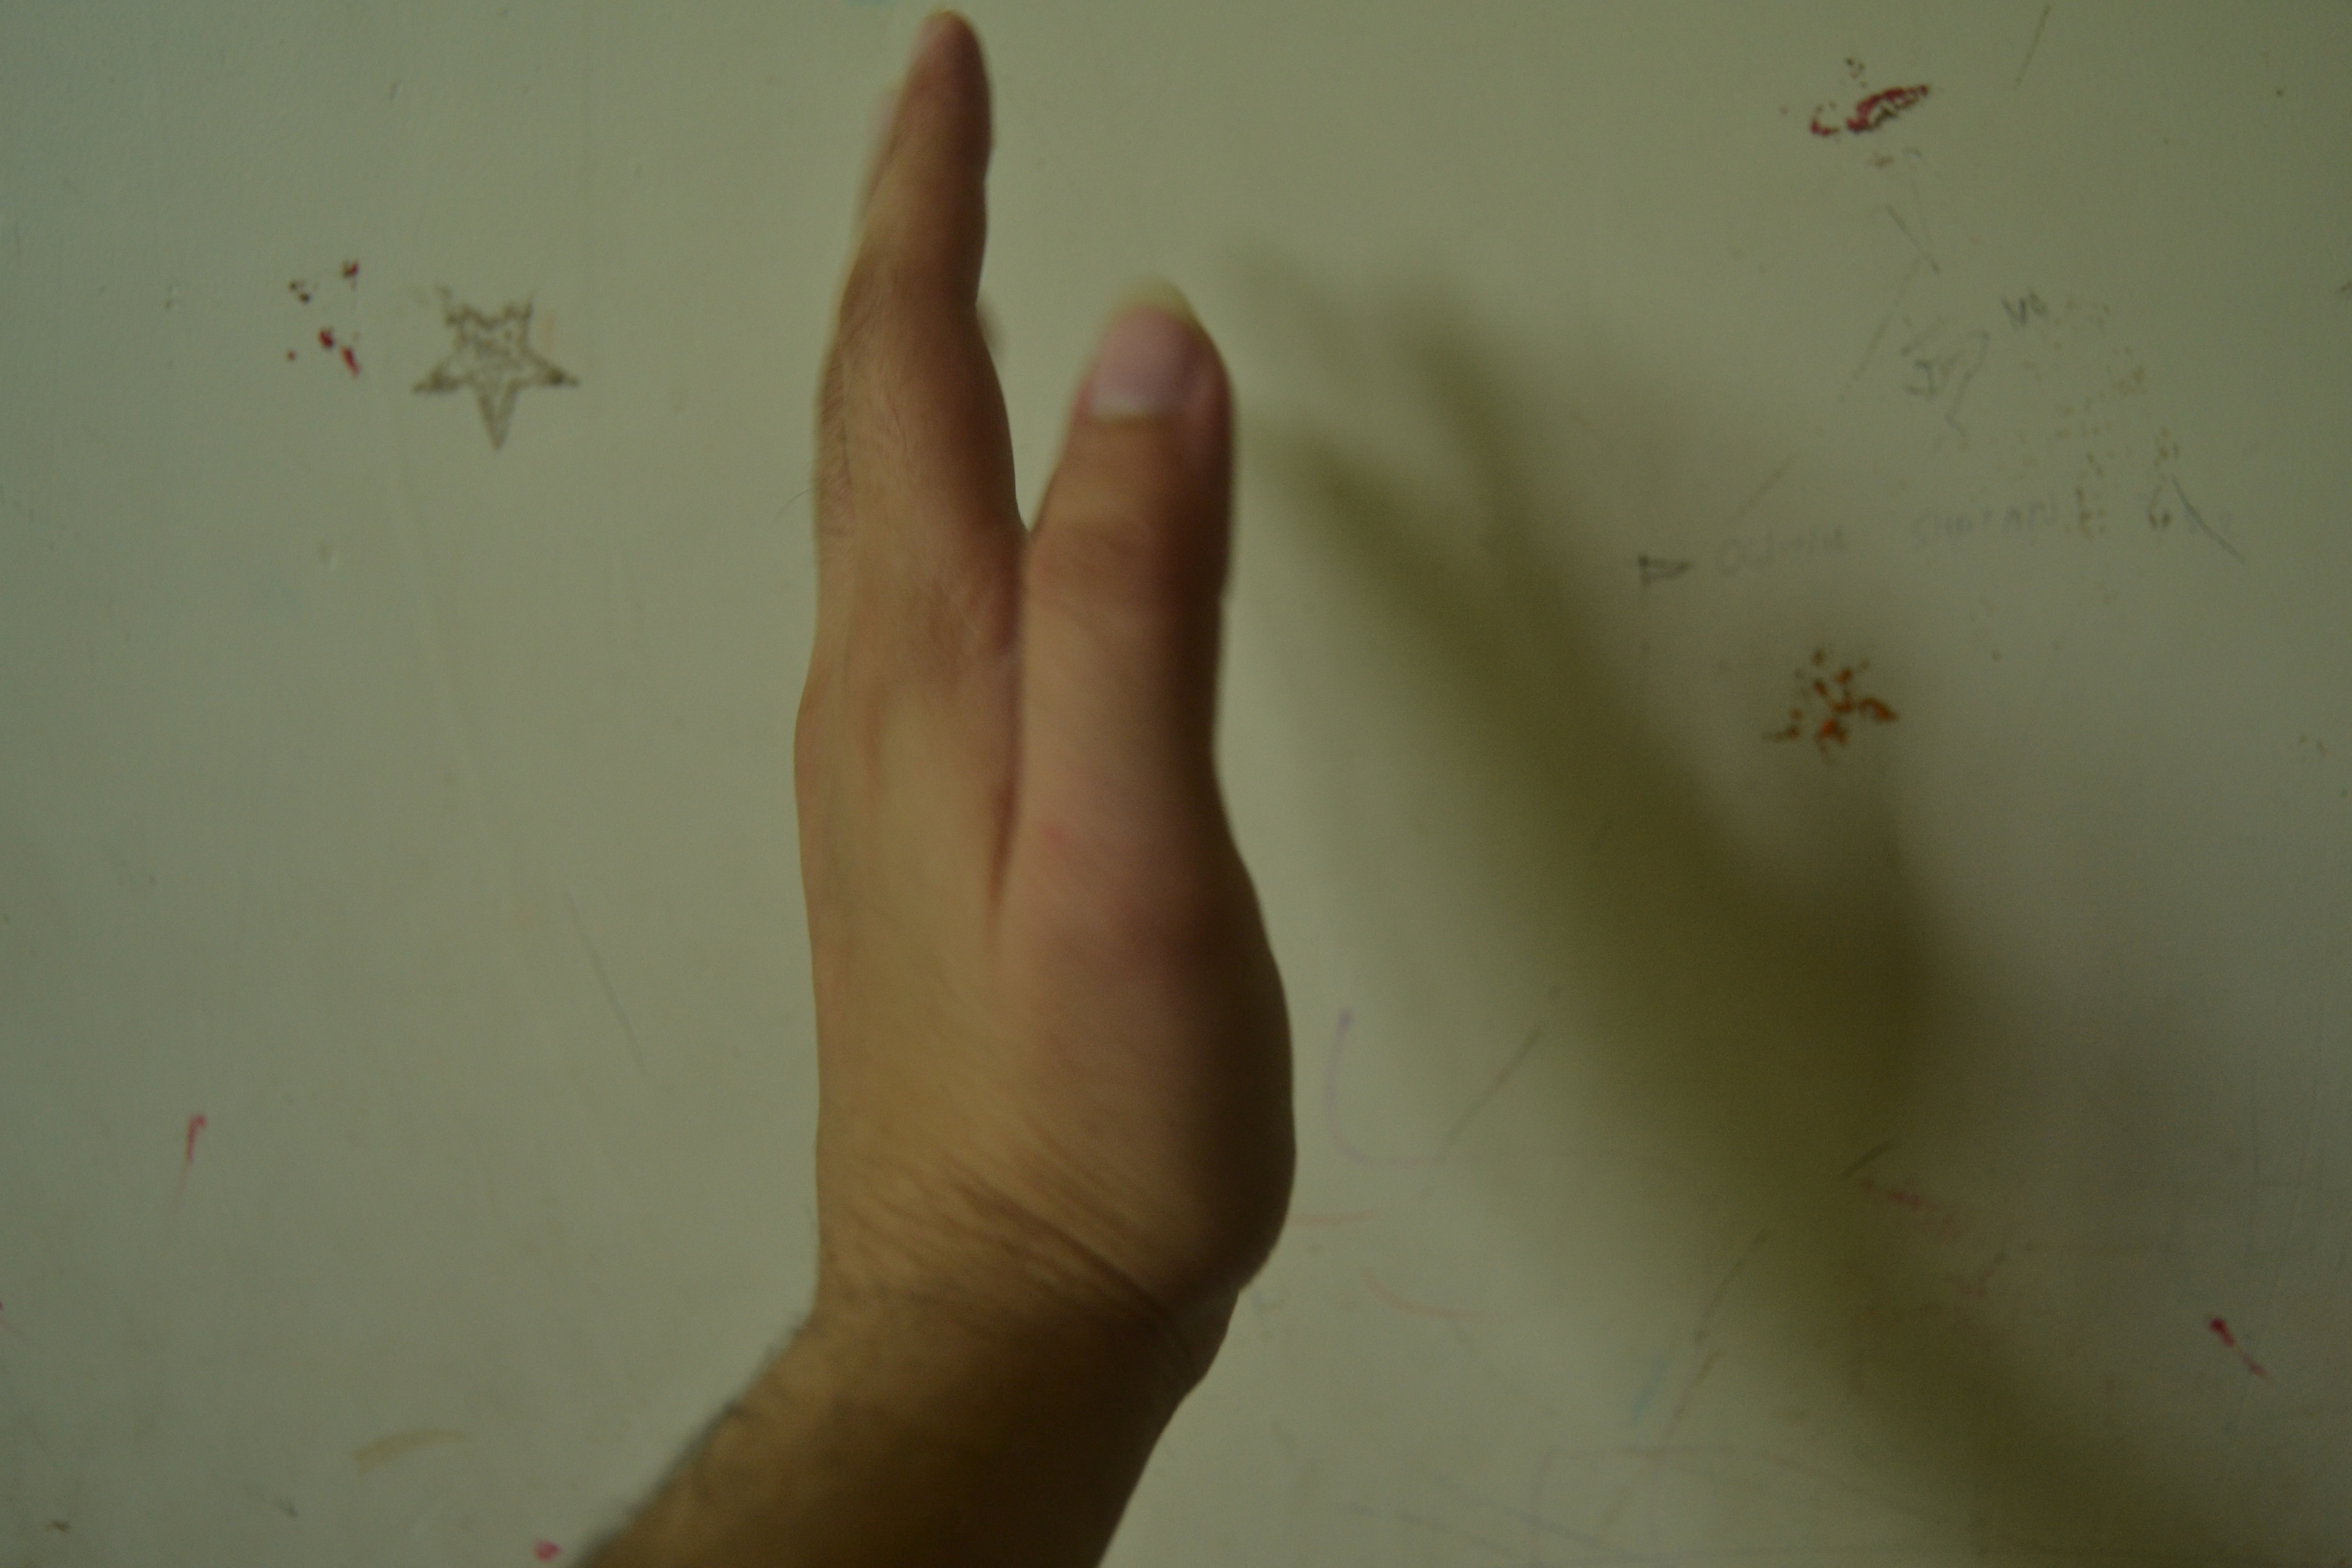move: (772, 9, 1389, 1438)
